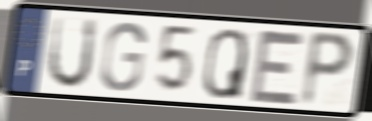5: (154, 24, 197, 97)
E: (247, 26, 308, 108)
G: (97, 20, 148, 93)
P: (297, 28, 357, 110)
Q: (201, 26, 249, 101)
U: (45, 14, 100, 92)
